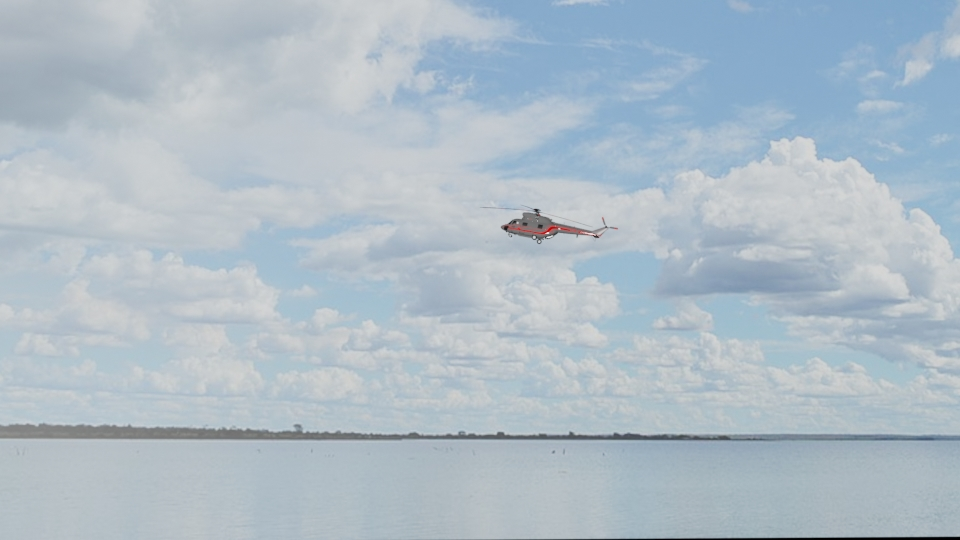heli: (498, 206, 620, 246)
